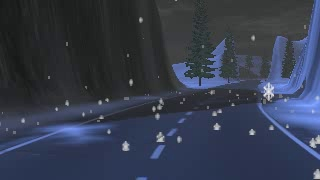Lane: (1, 79, 319, 179)
